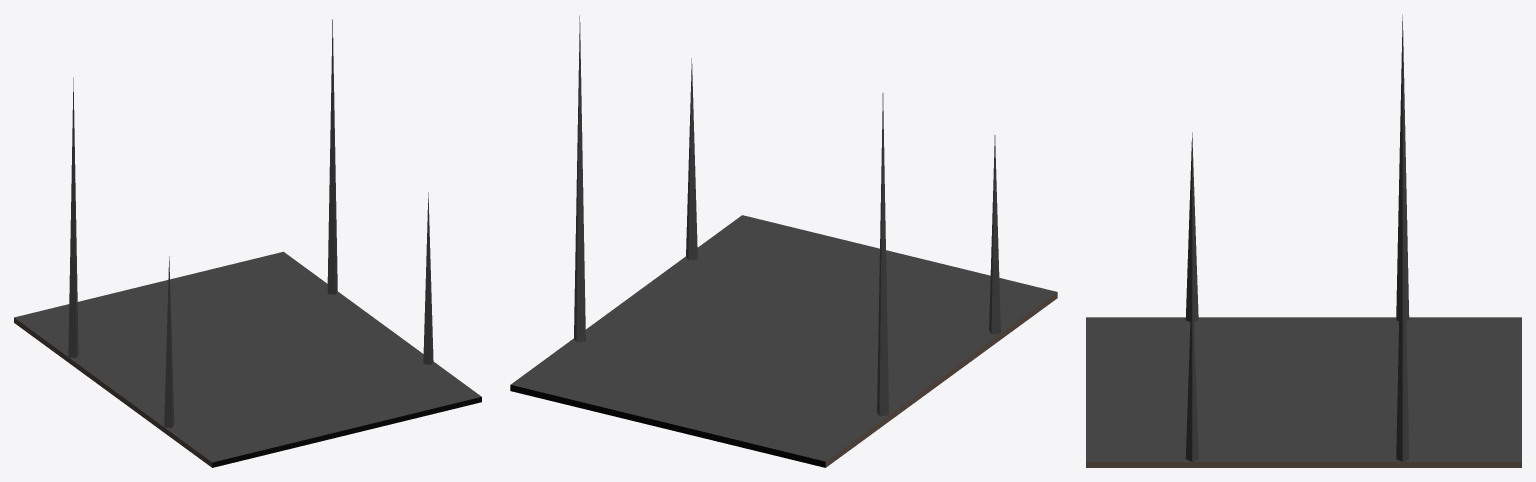
The model's file is suspension_middle_bottom.glb.
3 renders of one model, left to right at view 1: azimuth 30°, elevation 25°; view 2: azimuth 150°, elevation 25°; view 3: azimuth 270°, elevation 25°, orthographic. The views are drawn at different scales.
Visible parts, largest first — view 1: Maxis-3d2-mesh-60-BR01; view 2: Maxis-3d2-mesh-60-BR01; view 3: Maxis-3d2-mesh-60-BR01.
Part boxes in pixels (x1,y1,x2,y2): Maxis-3d2-mesh-60-BR01: [14, 19, 481, 467]; Maxis-3d2-mesh-60-BR01: [510, 15, 1057, 467]; Maxis-3d2-mesh-60-BR01: [1086, 15, 1521, 467].
Bounding box in the file's own units: 13 × 13.09 × 16.56.
